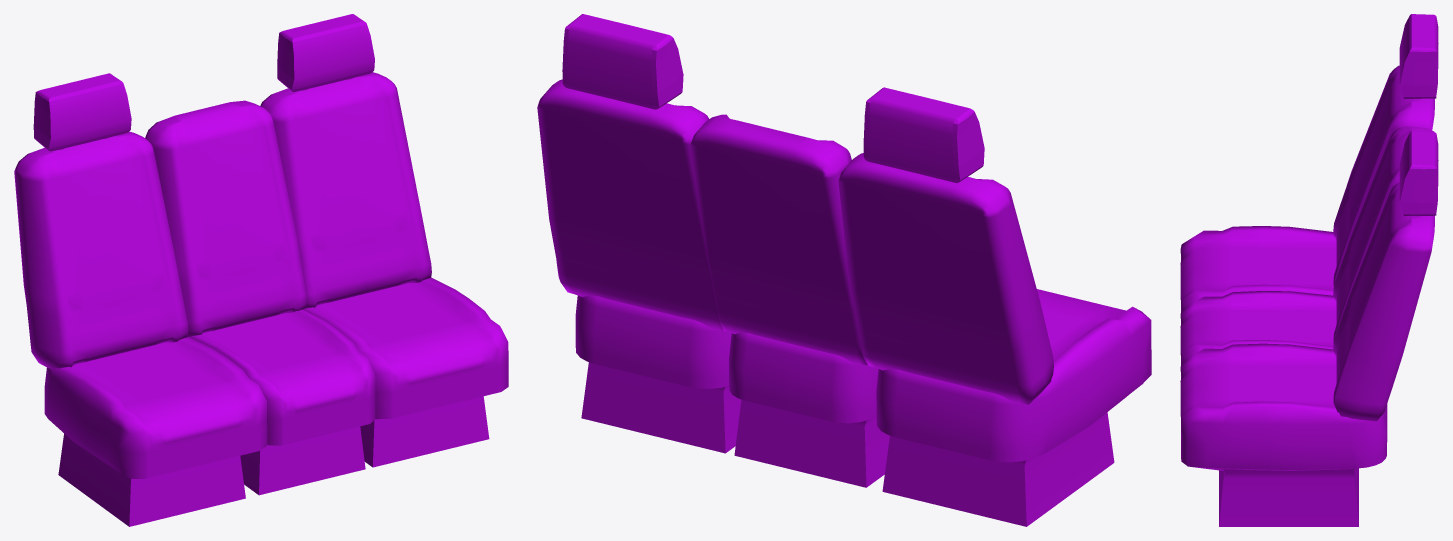
File: Car_Seat_Back.fbx
3 renders of one model, left to right at view 1: azimuth 30°, elevation 25°; view 2: azimuth 150°, elevation 25°; view 3: azimuth 270°, elevation 25°, orthographic. The views are drawn at different scales.
Parts seen in each view (by area): view 1: Car_Seat_Back; view 2: Car_Seat_Back; view 3: Car_Seat_Back.
Part boxes in pixels (x1,y1,x2,y2): Car_Seat_Back: [14, 14, 508, 526]; Car_Seat_Back: [537, 14, 1151, 526]; Car_Seat_Back: [1180, 14, 1438, 526].
Size of the model in its own units: 135 by 117 by 78.6.
